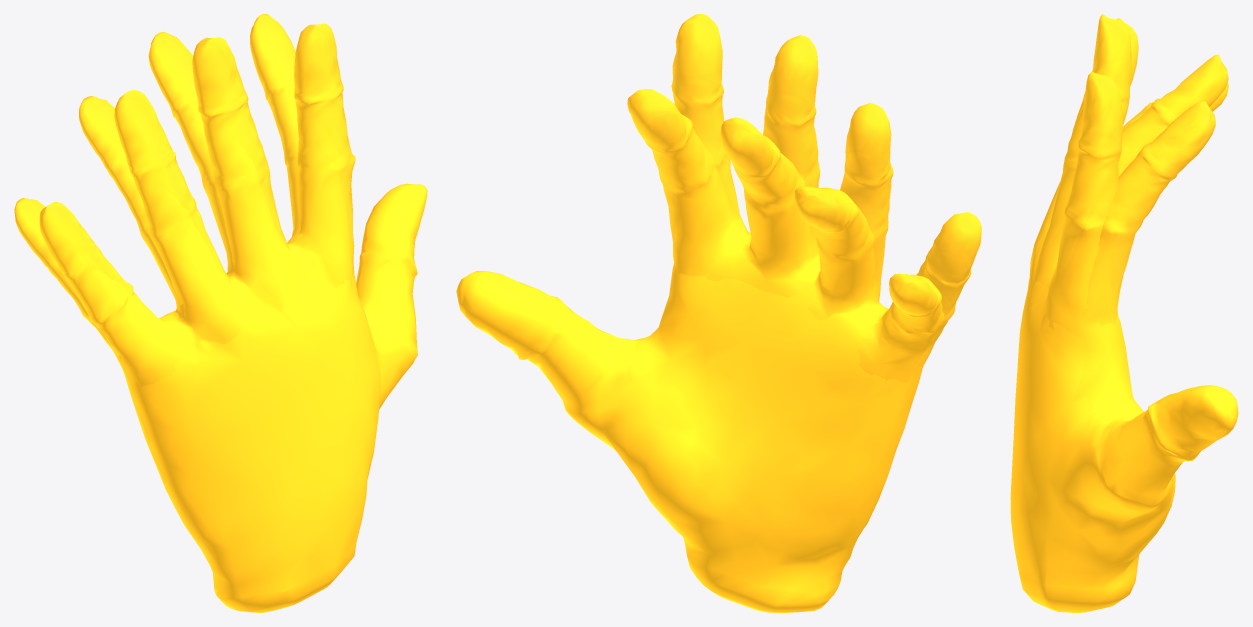
Rendered from ghost-hand-strike.glb.
The picture shows the model from 3 angles, left to right: view 1: azimuth 30°, elevation 25°; view 2: azimuth 150°, elevation 25°; view 3: azimuth 270°, elevation 25°; orthographic projection. The views are drawn at different scales.
Parts seen in each view (by area): view 1: Hover, Pat; view 2: Pat, Hover; view 3: Hover, Pat.
Part boxes in pixels (x1,y1,x2,y2): Hover: (14,14,427,612); Pat: (39,23,426,612); Pat: (457,14,981,612); Hover: (456,89,944,612); Hover: (1010,54,1238,612); Pat: (1025,14,1235,612).
Size of the model in its own units: 0.1666 by 0.2036 by 0.0741.
